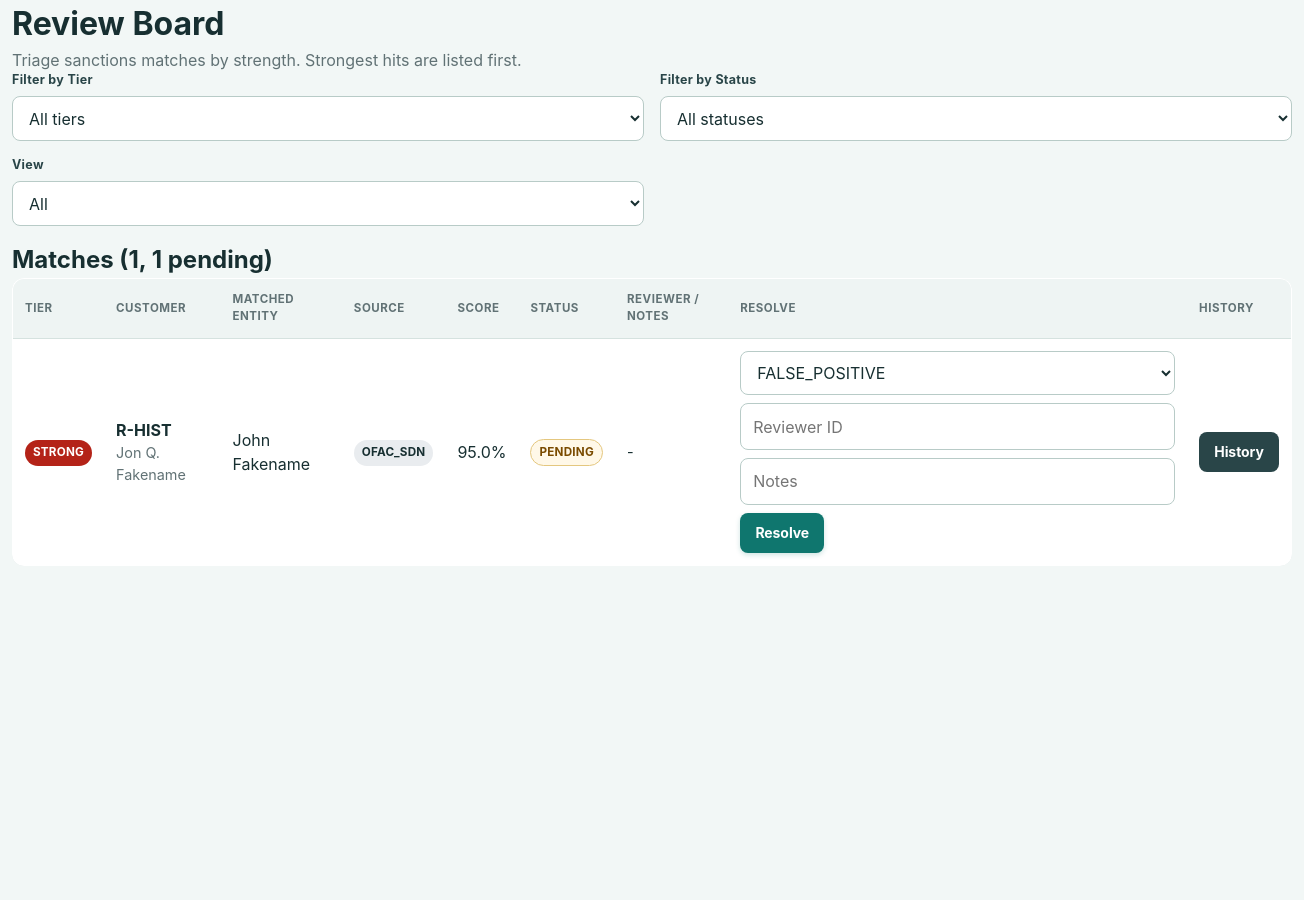
ReviewBoardPage › clicking History loads and renders the event timeline, then collapses on a second click
The image size is (1304, 900).
Expected: the text "R-HIST" is shown, [116,420,172,440]
Click the button "History" at (1239, 452), box [1199,432,1279,472]
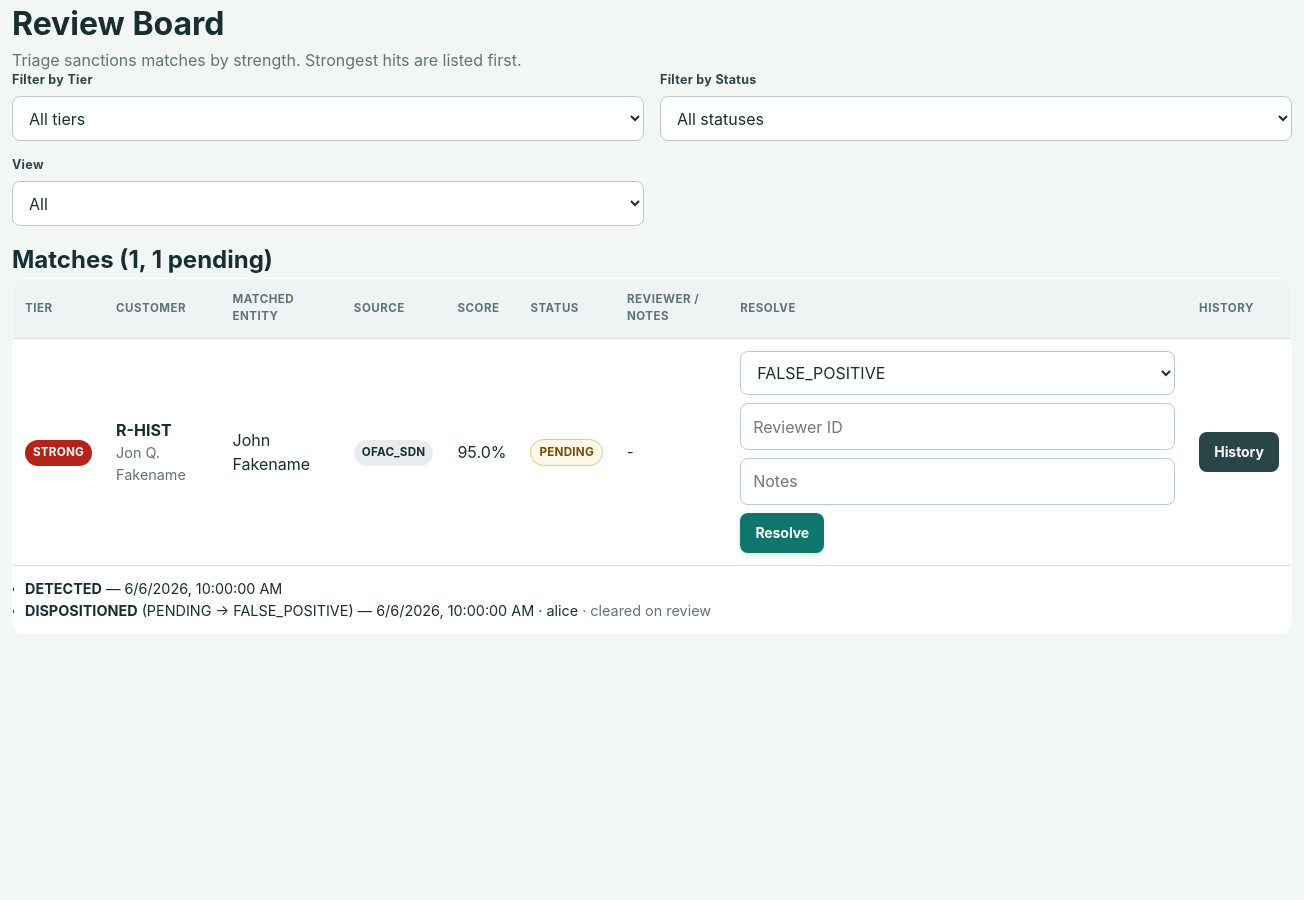
Expected: the text "DISPOSITIONED" is shown, [25,602,138,619]
Expected: the text "· cleared on review" is shown, [578,602,711,619]
Click the button "History" at (1239, 452), box [1199,432,1279,472]
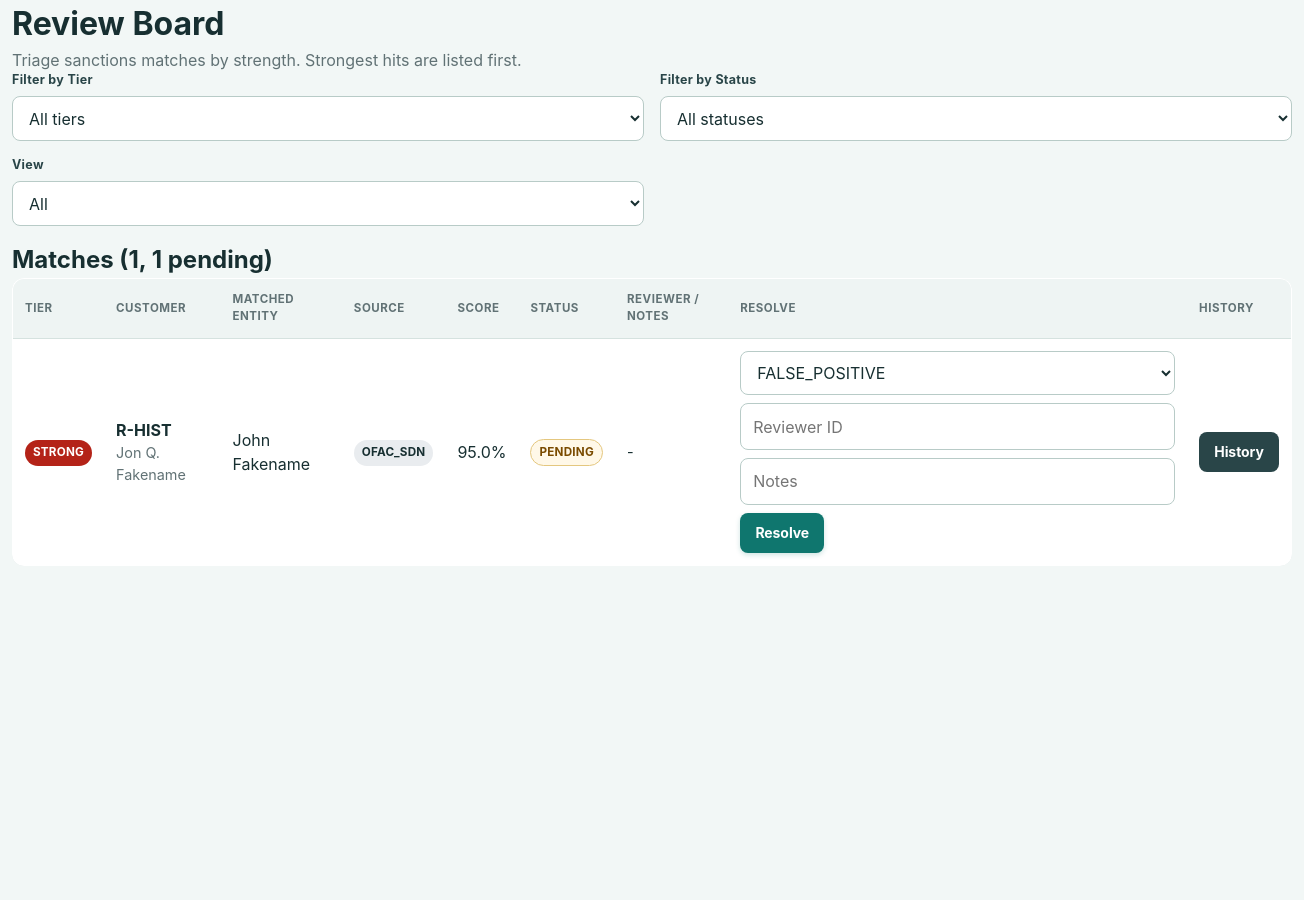
Expected: the text "cleared on review" is gone
